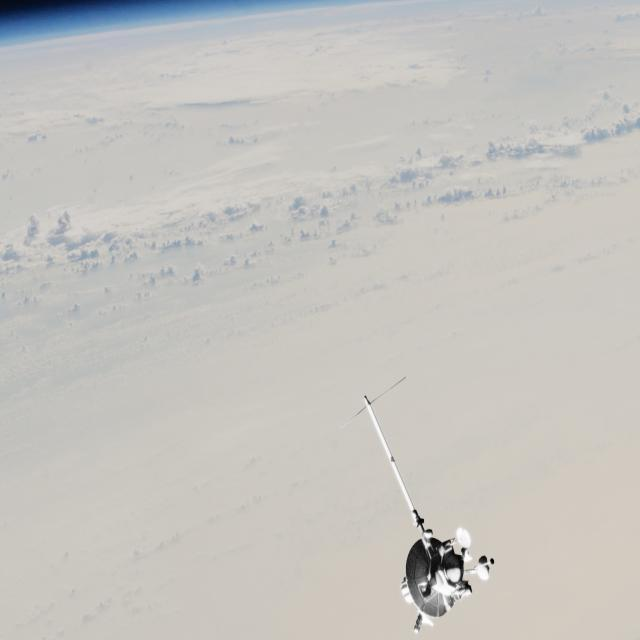satellite: (349, 382, 509, 640)
